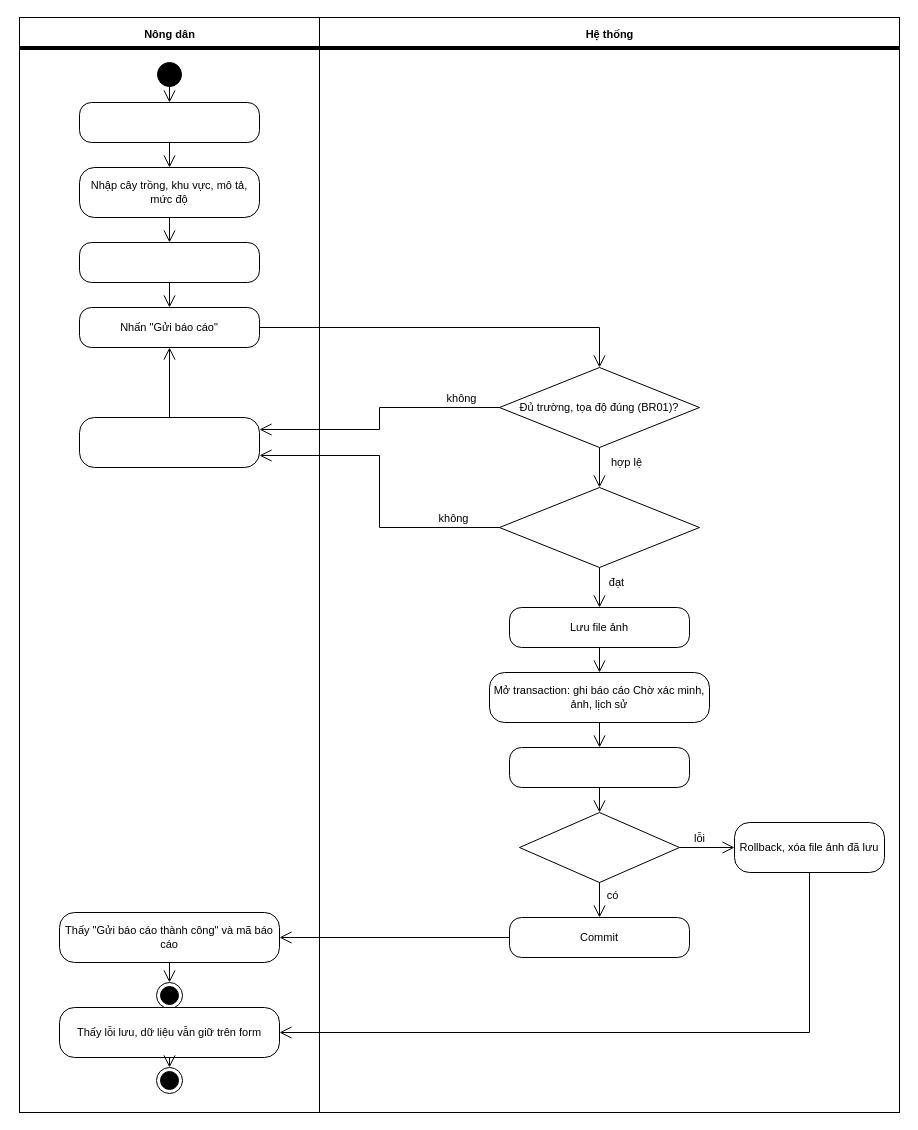
Some shapes in this 918 by 1130 pixel diagram are drawn without their labels. The centre of each missing label's shape, as x and y in pixels:
"Chọn 1 đến 5 ảnh, nhập tọa độ" belongs at pixel 169 262.
"Ghi thành công?" belongs at pixel 599 847.
"Mở trang Gửi báo cáo" belongs at pixel 169 122.
"Sửa ô bị tô đỏ hoặc chọn lại ảnh" belongs at pixel 169 442.
"Tạo thông báo cho chuyên gia khu vực" belongs at pixel 599 767.
"Ảnh JPG/PNG, tối đa 5 MB?" belongs at pixel 599 527.
